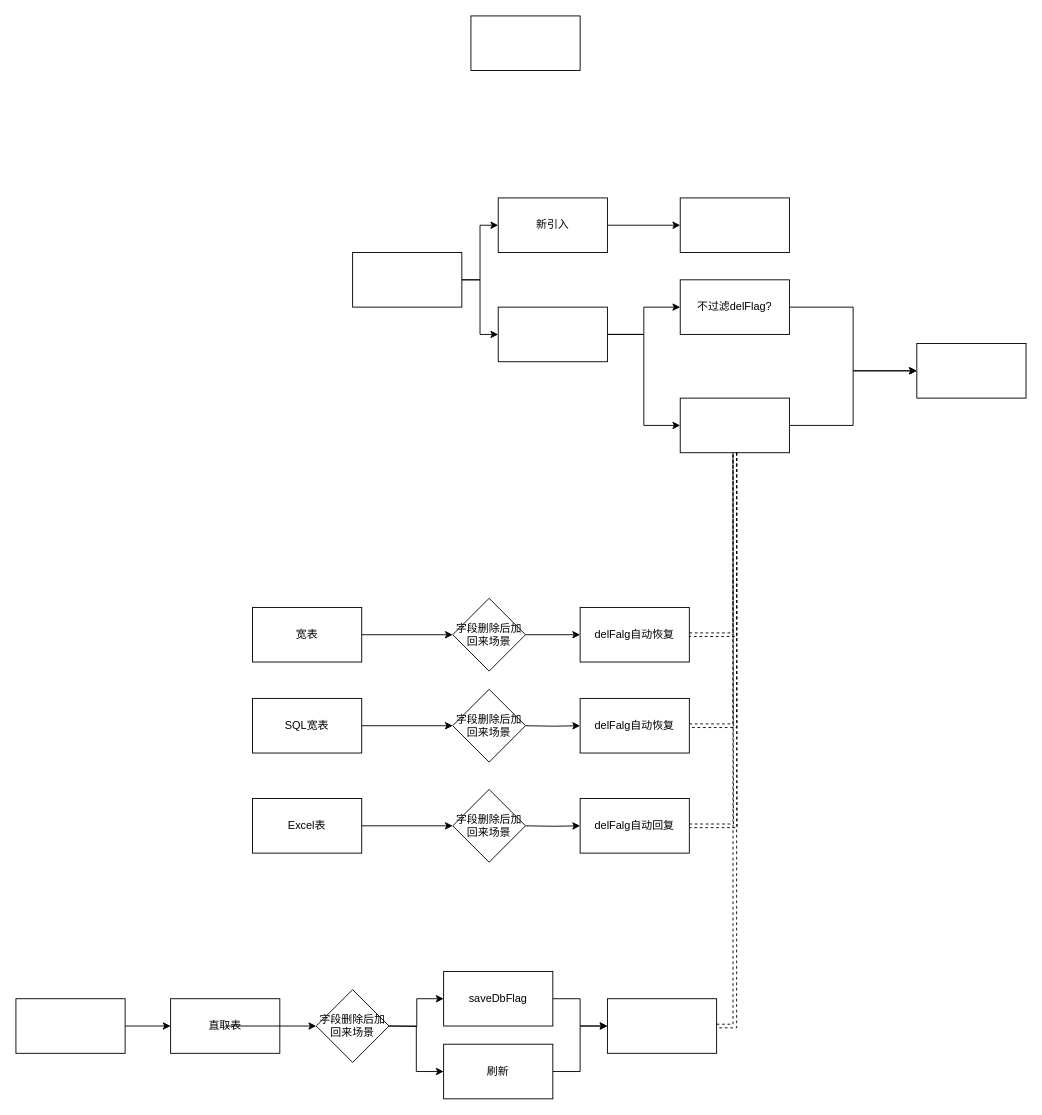
Image size: 1042x1115. Some labels were removed from this diagram. The centre of each missing label's shape, as x and y in pixels:
delFalg恢复: the point at 662,1025
saveDbTable: the point at 407,279
wide_source_column: the point at 525,43
保存成功: the point at 971,370
数据库管理: the point at 70,1025
更新: the point at 552,334
直接插入，不涉及: the point at 734,225
过滤: the point at 734,425
